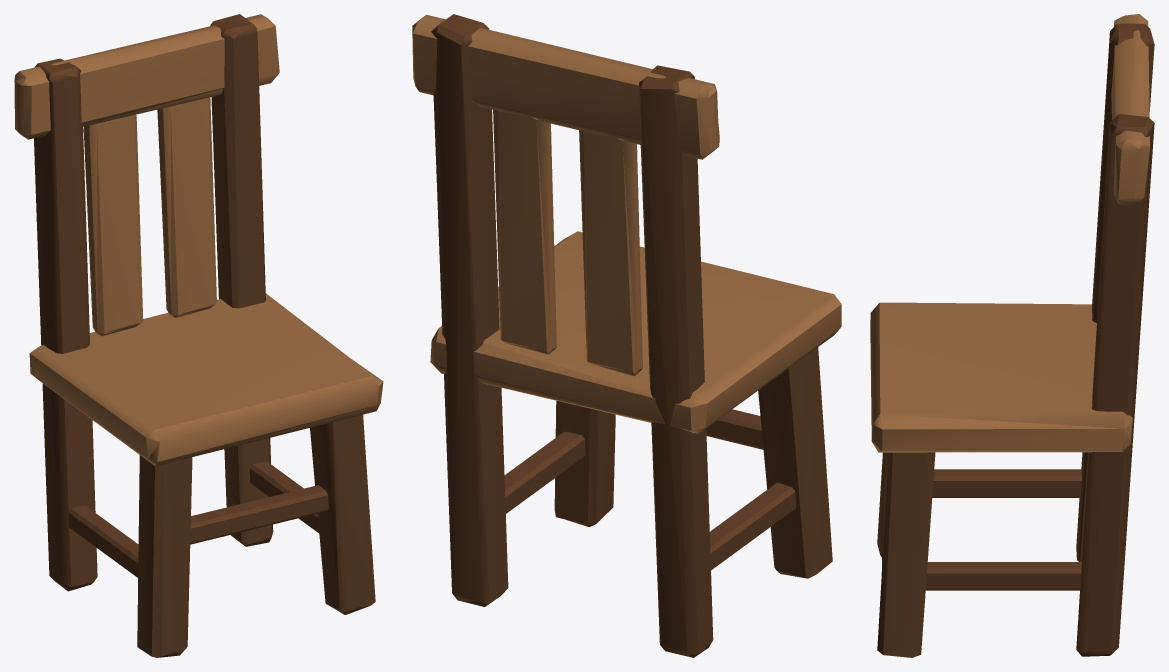
File: tavern_chair.glb
3 views of the same model, side by side, from view 1: azimuth 30°, elevation 25°; view 2: azimuth 150°, elevation 25°; view 3: azimuth 270°, elevation 25° (orthographic). The views are drawn at different scales.
Visible parts, largest first — view 1: seat, rear_leg_left, rear_leg_right, top_rail, back_slat_0, back_slat_1, front_leg_left, front_leg_right, front_stretcher, side_stretcher_left, side_stretcher_right; view 2: rear_leg_right, rear_leg_left, seat, top_rail, back_slat_0, back_slat_1, front_leg_left, front_leg_right, side_stretcher_left, side_stretcher_right, front_stretcher; view 3: seat, rear_leg_right, front_leg_right, top_rail, side_stretcher_right, side_stretcher_left, rear_leg_left, front_leg_left.
Boxes of the visible parts, bbox=[...] form: seat: bbox=[29, 293, 383, 466]; rear_leg_left: bbox=[34, 58, 97, 591]; rear_leg_right: bbox=[210, 14, 273, 546]; top_rail: bbox=[14, 14, 279, 139]; back_slat_0: bbox=[83, 114, 143, 336]; back_slat_1: bbox=[157, 97, 216, 317]; front_leg_left: bbox=[137, 455, 192, 657]; front_leg_right: bbox=[310, 414, 375, 614]; front_stretcher: bbox=[190, 485, 328, 544]; side_stretcher_left: bbox=[68, 505, 138, 577]; side_stretcher_right: bbox=[249, 461, 319, 533]; rear_leg_right: bbox=[431, 14, 508, 606]; rear_leg_left: bbox=[639, 65, 713, 657]; seat: bbox=[430, 231, 841, 433]; top_rail: bbox=[412, 14, 719, 159]; back_slat_0: bbox=[579, 130, 642, 376]; back_slat_1: bbox=[493, 109, 556, 354]; front_leg_left: bbox=[758, 347, 832, 578]; front_leg_right: bbox=[554, 400, 615, 526]; side_stretcher_left: bbox=[709, 482, 795, 570]; side_stretcher_right: bbox=[504, 431, 585, 513]; front_stretcher: bbox=[706, 409, 763, 449]; seat: bbox=[870, 302, 1132, 452]; rear_leg_right: bbox=[1076, 114, 1154, 656]; front_leg_right: bbox=[877, 452, 935, 657]; top_rail: bbox=[1111, 14, 1149, 204]; side_stretcher_right: bbox=[925, 562, 1081, 590]; side_stretcher_left: bbox=[932, 469, 1081, 497]; rear_leg_left: bbox=[1076, 23, 1154, 561]; front_leg_left: bbox=[877, 452, 884, 557].
Size of the model in its own units: 0.522 by 0.9841 by 0.4782.
